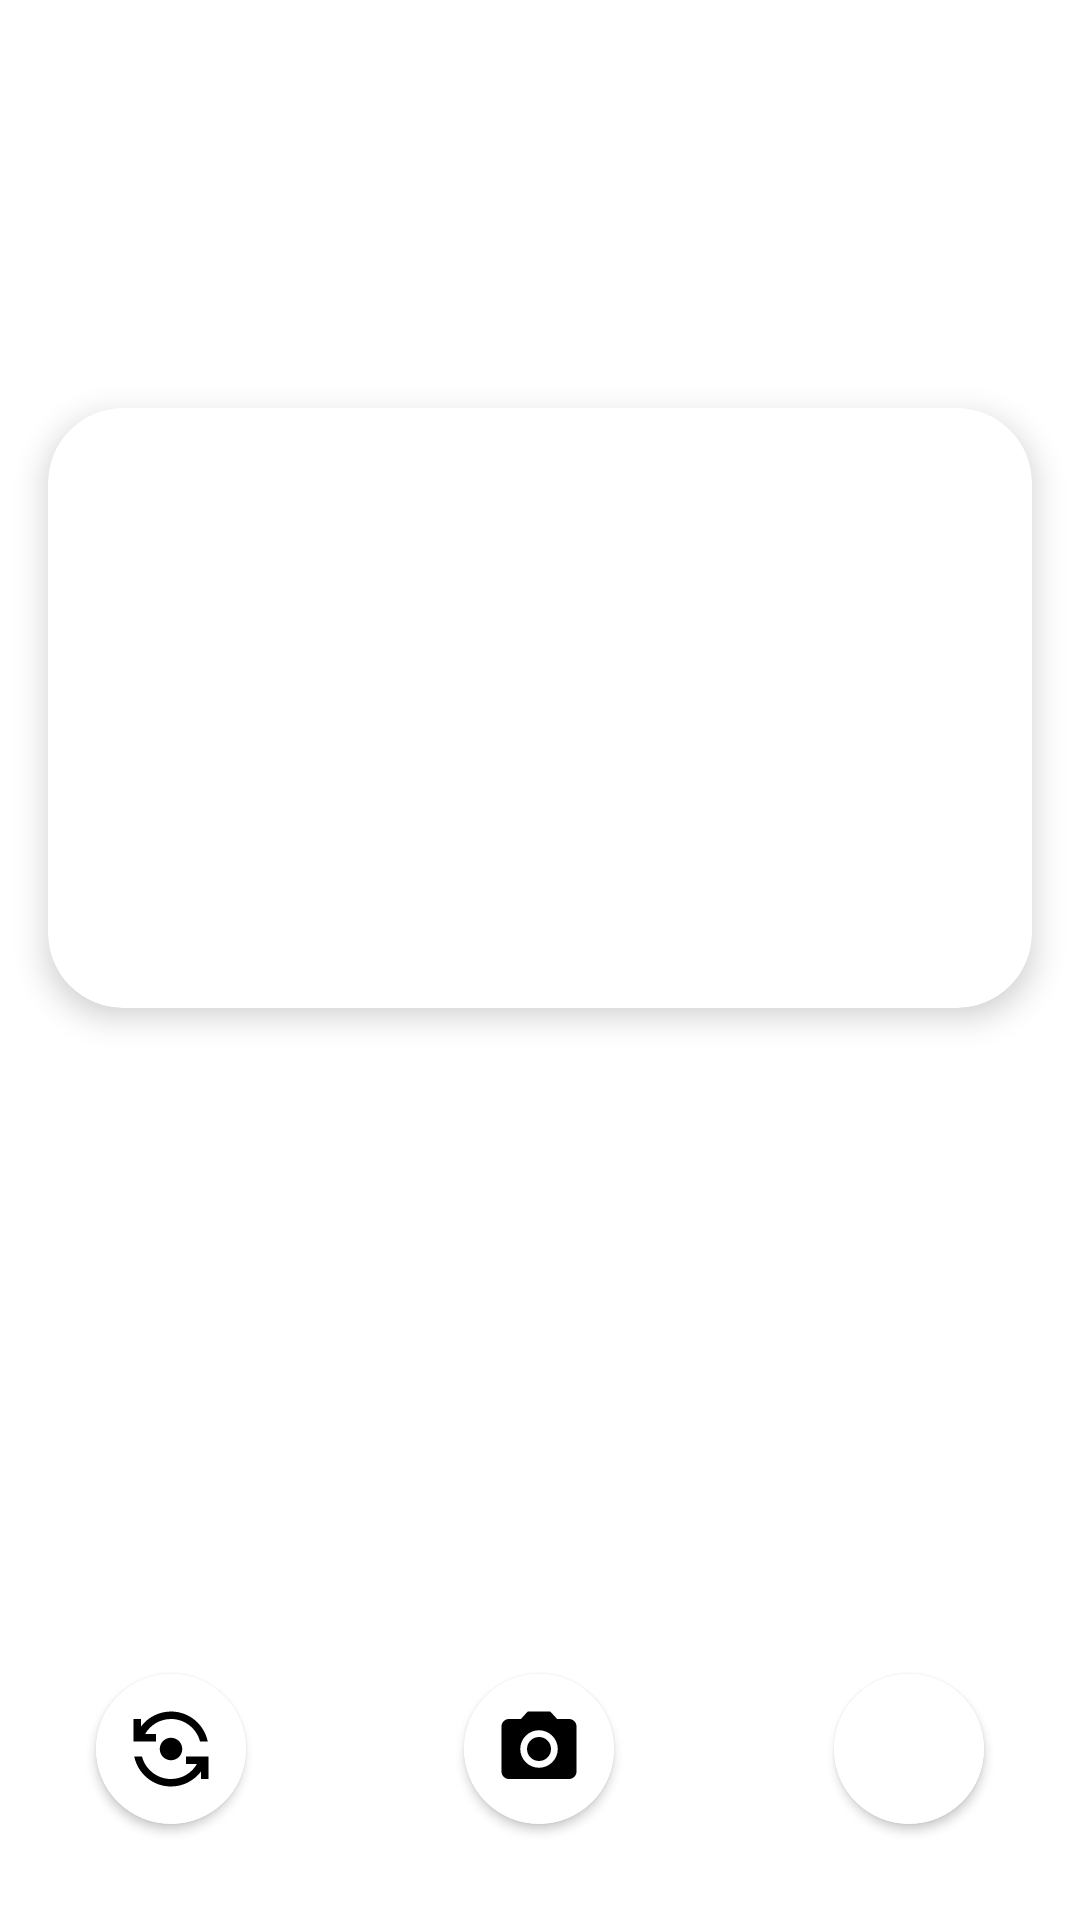

Named icons in this screenshot (1080*1920) and their bounding boxes, (x1, y1, x2, y2):
flip camera: (133, 1711, 243, 1787)
photo camera: (464, 1711, 614, 1779)
